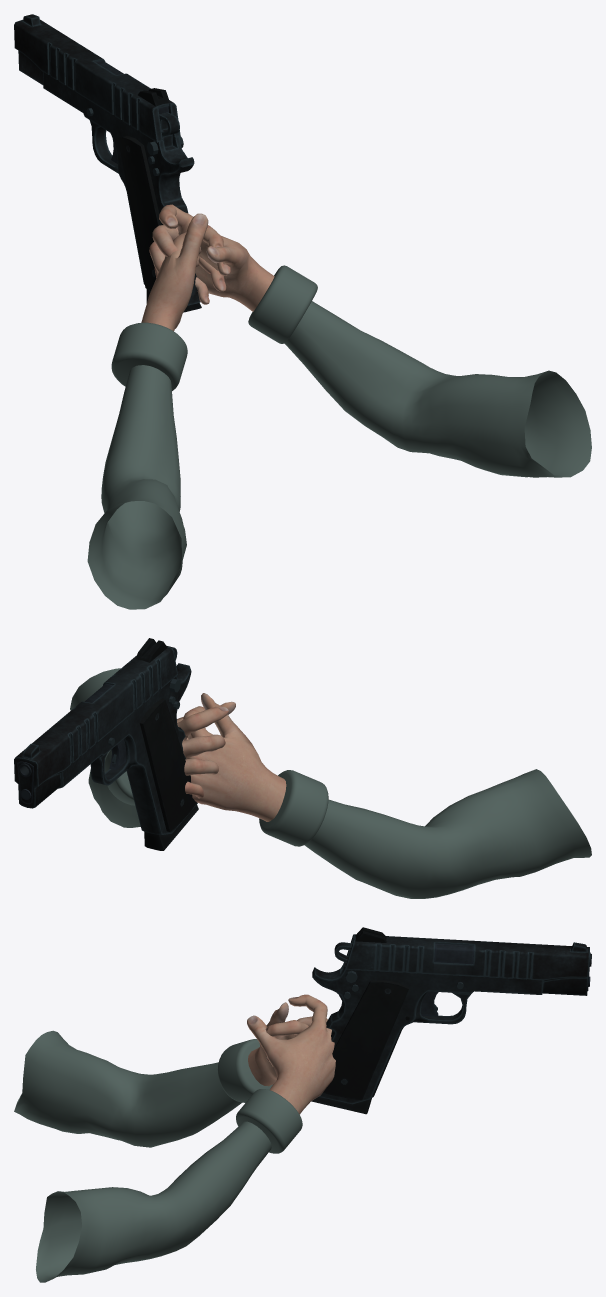
The model's file is pistol_hands.glb.
The picture shows the model from 3 angles, top to bottom: view 1: azimuth 30°, elevation 25°; view 2: azimuth 150°, elevation 25°; view 3: azimuth 270°, elevation 25°; orthographic projection. The views are drawn at different scales.
Visible parts, largest first — view 1: Grip_Hands_Anatomical, Pistol_Frame, Pistol_Slide, Sleeve_Cuff_L, Sleeve_Cuff_R; view 2: Grip_Hands_Anatomical, Pistol_Frame, Pistol_Slide, Sleeve_Cuff_L, Sleeve_Cuff_R, Pistol_Magazine.001, Pistol_Trigger; view 3: Grip_Hands_Anatomical, Pistol_Frame, Pistol_Slide, Sleeve_Cuff_R, Sleeve_Cuff_L, Pistol_Slide4, Pistol_Magazine.001.
Part boxes in pixels (left/top/right/bottom): Grip_Hands_Anatomical: left=87, top=204, right=591, bottom=609; Pistol_Frame: left=43, top=72, right=200, bottom=305; Pistol_Slide: left=14, top=14, right=180, bottom=142; Sleeve_Cuff_L: left=111, top=322, right=187, bottom=390; Sleeve_Cuff_R: left=248, top=265, right=317, bottom=343; Grip_Hands_Anatomical: left=70, top=668, right=591, bottom=898; Pistol_Frame: left=58, top=663, right=197, bottom=834; Pistol_Slide: left=14, top=638, right=177, bottom=808; Sleeve_Cuff_L: left=259, top=770, right=328, bottom=846; Sleeve_Cuff_R: left=104, top=749, right=135, bottom=805; Pistol_Magazine.001: left=144, top=805, right=198, bottom=850; Pistol_Trigger: left=109, top=739, right=126, bottom=770; Grip_Hands_Anatomical: left=14, top=994, right=335, bottom=1282; Pistol_Frame: left=312, top=962, right=543, bottom=1104; Pistol_Slide: left=345, top=927, right=590, bottom=995; Sleeve_Cuff_R: left=236, top=1089, right=302, bottom=1153; Sleeve_Cuff_L: left=217, top=1039, right=272, bottom=1102; Pistol_Slide4: left=434, top=943, right=474, bottom=964; Pistol_Magazine.001: left=311, top=1097, right=371, bottom=1114.
Bounding box in the file's own units: 0.5373 × 0.3224 × 0.6155.
9 materials, 8 textured.
